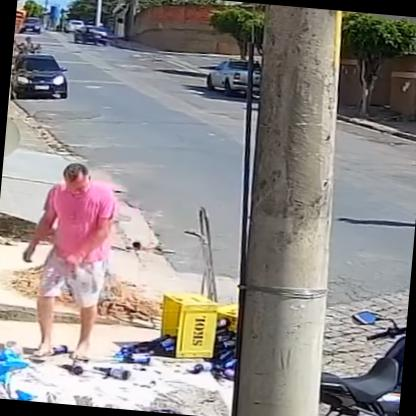Human Body: (14, 157, 122, 362)
